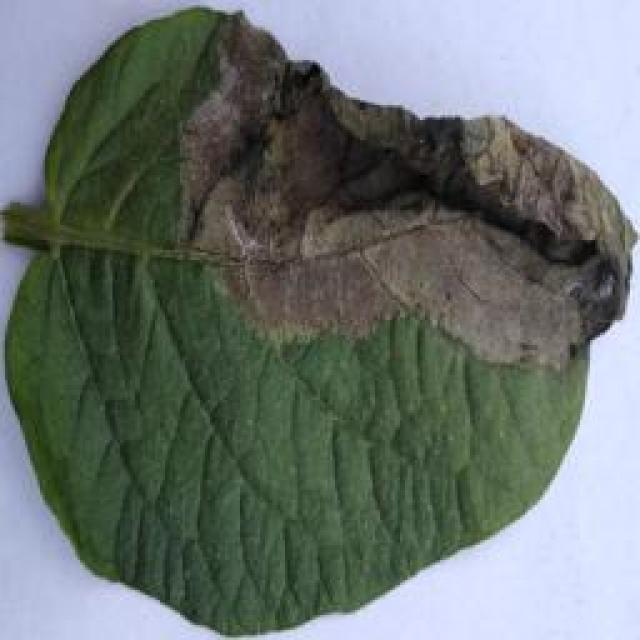Potato_Late_Blight: (0, 15, 628, 640), (368, 4, 623, 99)
